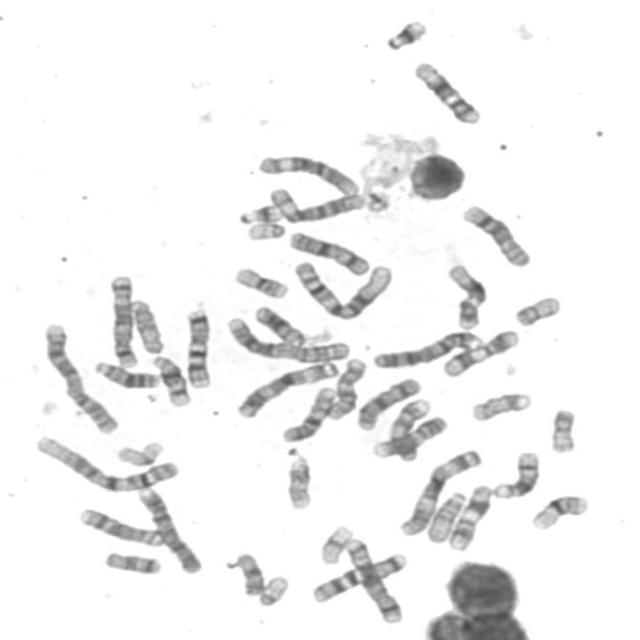A1: (31, 429, 182, 494), (289, 256, 395, 321)
A2: (39, 318, 122, 435), (221, 312, 352, 364)
A3: (395, 444, 484, 538), (233, 358, 342, 420)
B4: (133, 482, 205, 575), (369, 326, 485, 370)
B5: (340, 535, 406, 625), (105, 270, 141, 369)
C10: (278, 382, 338, 444), (324, 354, 368, 421)
C11: (438, 326, 522, 378), (444, 480, 495, 552)
C12: (410, 57, 484, 126), (443, 260, 489, 331)
C6: (255, 150, 363, 197), (264, 183, 368, 224)
C7: (307, 548, 411, 605), (180, 304, 216, 390)
C8: (458, 201, 534, 268), (74, 504, 167, 548)
C9: (368, 411, 449, 460), (382, 394, 433, 461)
D13: (251, 300, 310, 348), (90, 356, 162, 389)
D14: (489, 447, 544, 500), (147, 351, 194, 408)
D15: (423, 488, 469, 544), (126, 295, 167, 355)
E16: (528, 491, 592, 532), (230, 263, 292, 300)
E17: (467, 388, 534, 423), (282, 446, 315, 512)
E18: (100, 548, 164, 576), (232, 548, 267, 597)
F19: (316, 521, 356, 566), (112, 437, 167, 467)
F20: (511, 291, 565, 328), (545, 404, 580, 454)
G21: (381, 15, 430, 52), (235, 200, 285, 226)
G22: (254, 572, 292, 608), (243, 218, 288, 241)
X: (285, 227, 372, 276), (352, 373, 424, 432)
